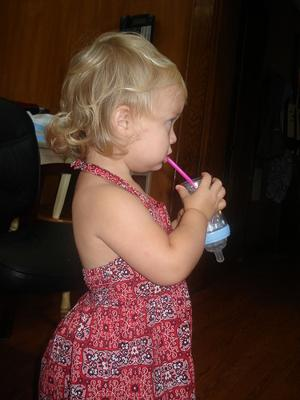person: (38, 30, 228, 400)
